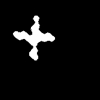single_crochet: (13, 16, 54, 59)
